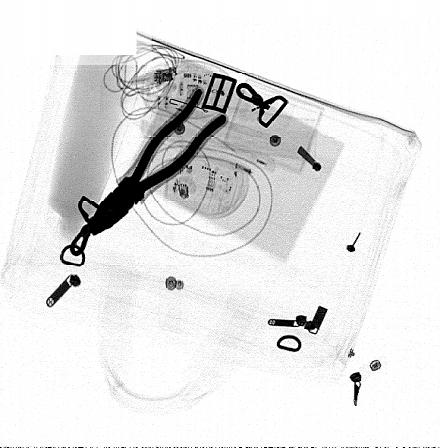Pliers: (87, 86, 228, 237)
